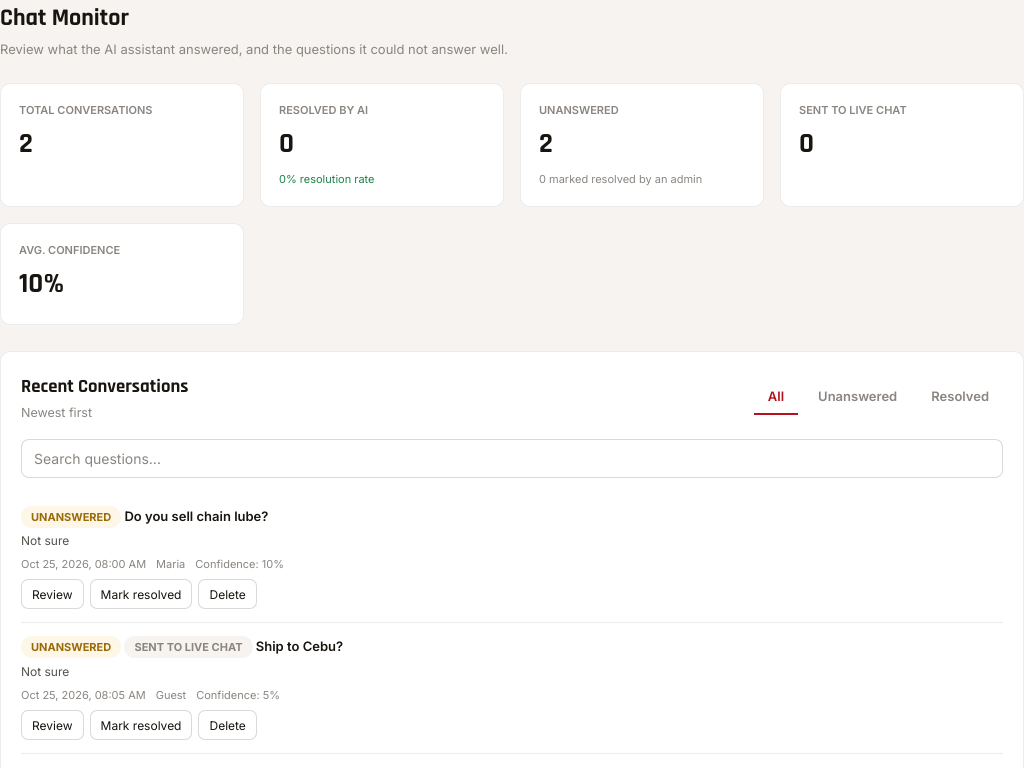
Test case: chat monitor › opens a review with the conversation around the question
This screenshot has width=1024, height=768.
Click the button "Review" below "Oct 25, 2026, 08:00 AM".
click(52, 594)  # box [21,579,84,609]
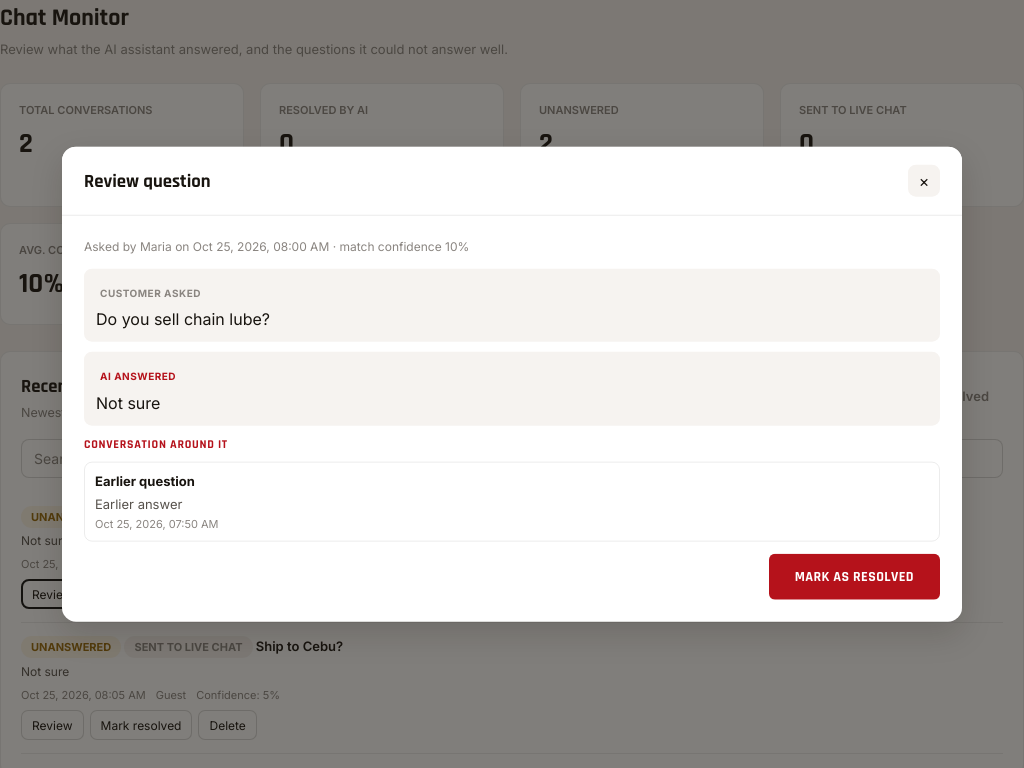
Result: the text "Earlier question" is shown at [95,473,195,489]
Result: the text "Customer asked" is shown at [96,286,201,298]
Result: the text "AI answered" is shown at [96,370,176,382]
